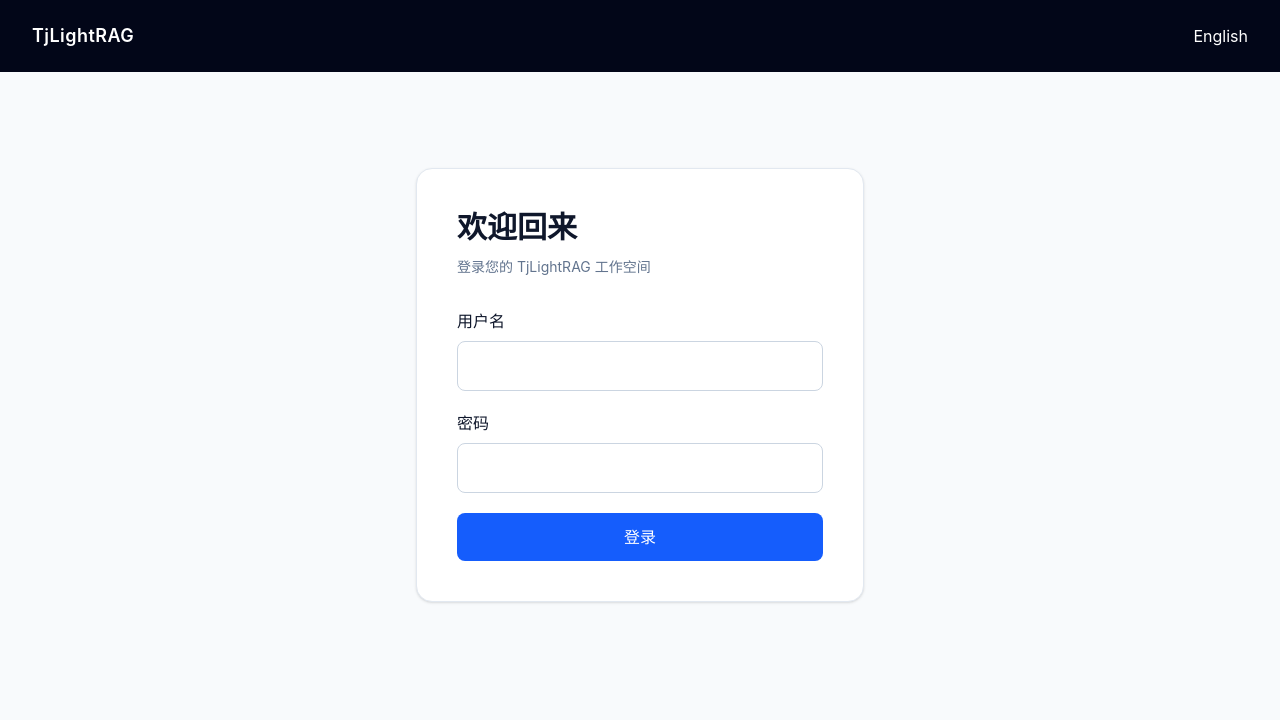
Test case: shows invalid credentials
In the field labelled "用户名": (640, 366) [457,341,823,391], type "admin"
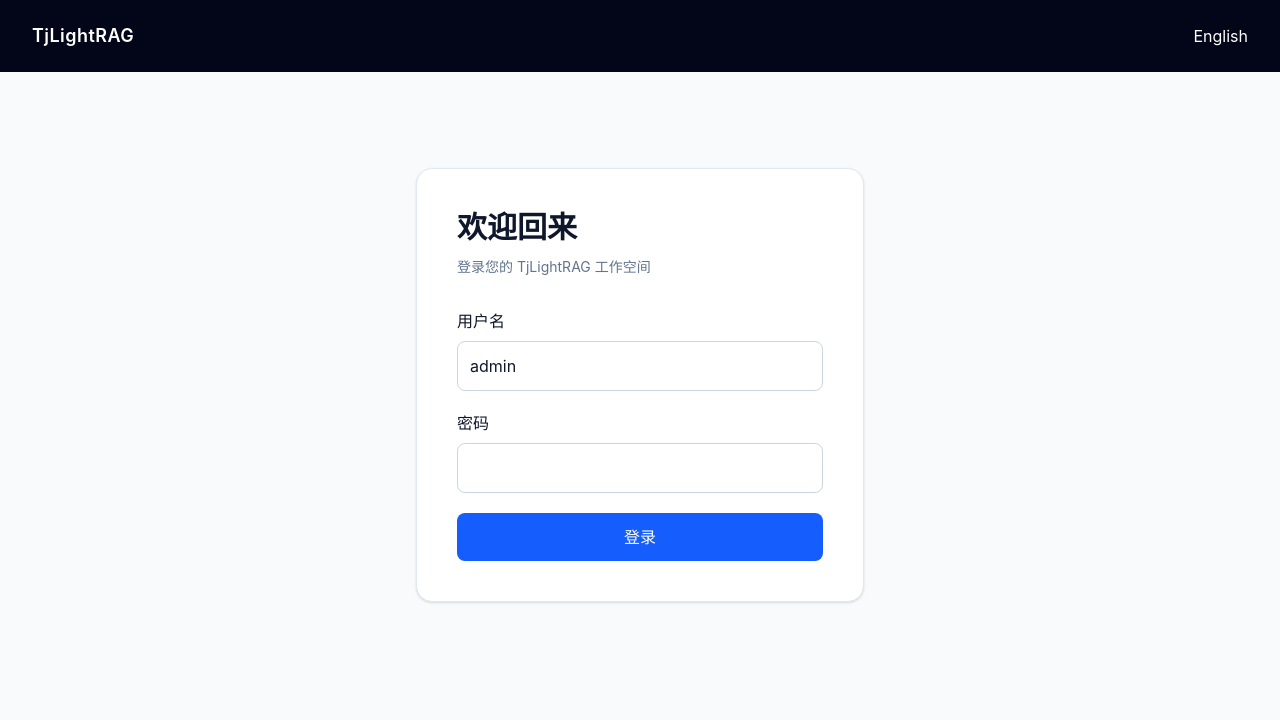
In the password field labelled "密码": (640, 468) [457,443,823,493], type "bad"
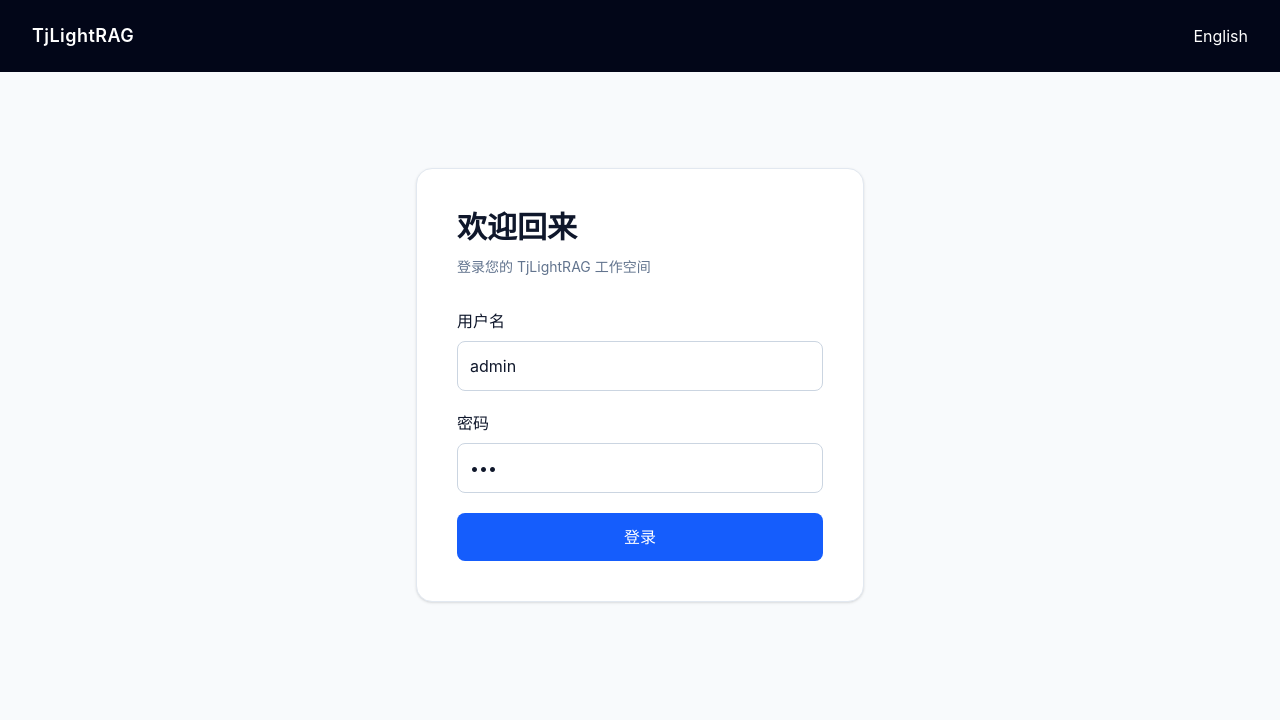
Click the button "登录": (640, 537) [457,513,823,561]
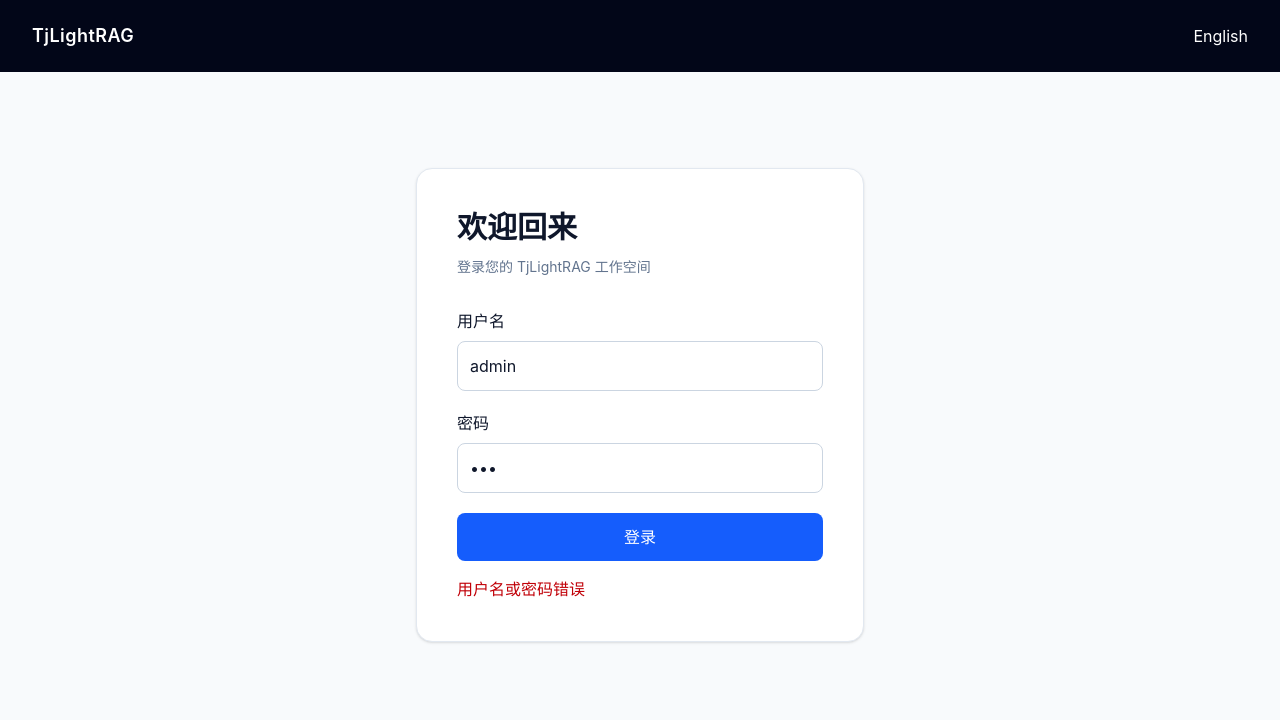
Result: the message reads "用户名或密码错误" at [457,579,585,599]
